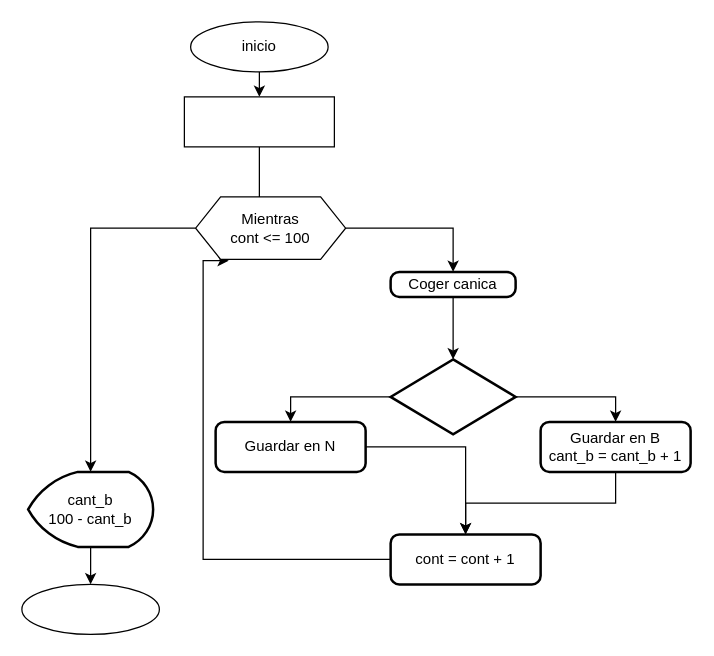
Some shapes in this 714 by 656 pixel diagram are drawn without their labels. The shapes that lost their labels are listed below. From the top down, each one's centre as x and y in pixels, then its label:
At pixel 258 121: "cont = 0 cant_b = 0".
At pixel 452 396: "es blanca".
At pixel 90 608: "fin".
